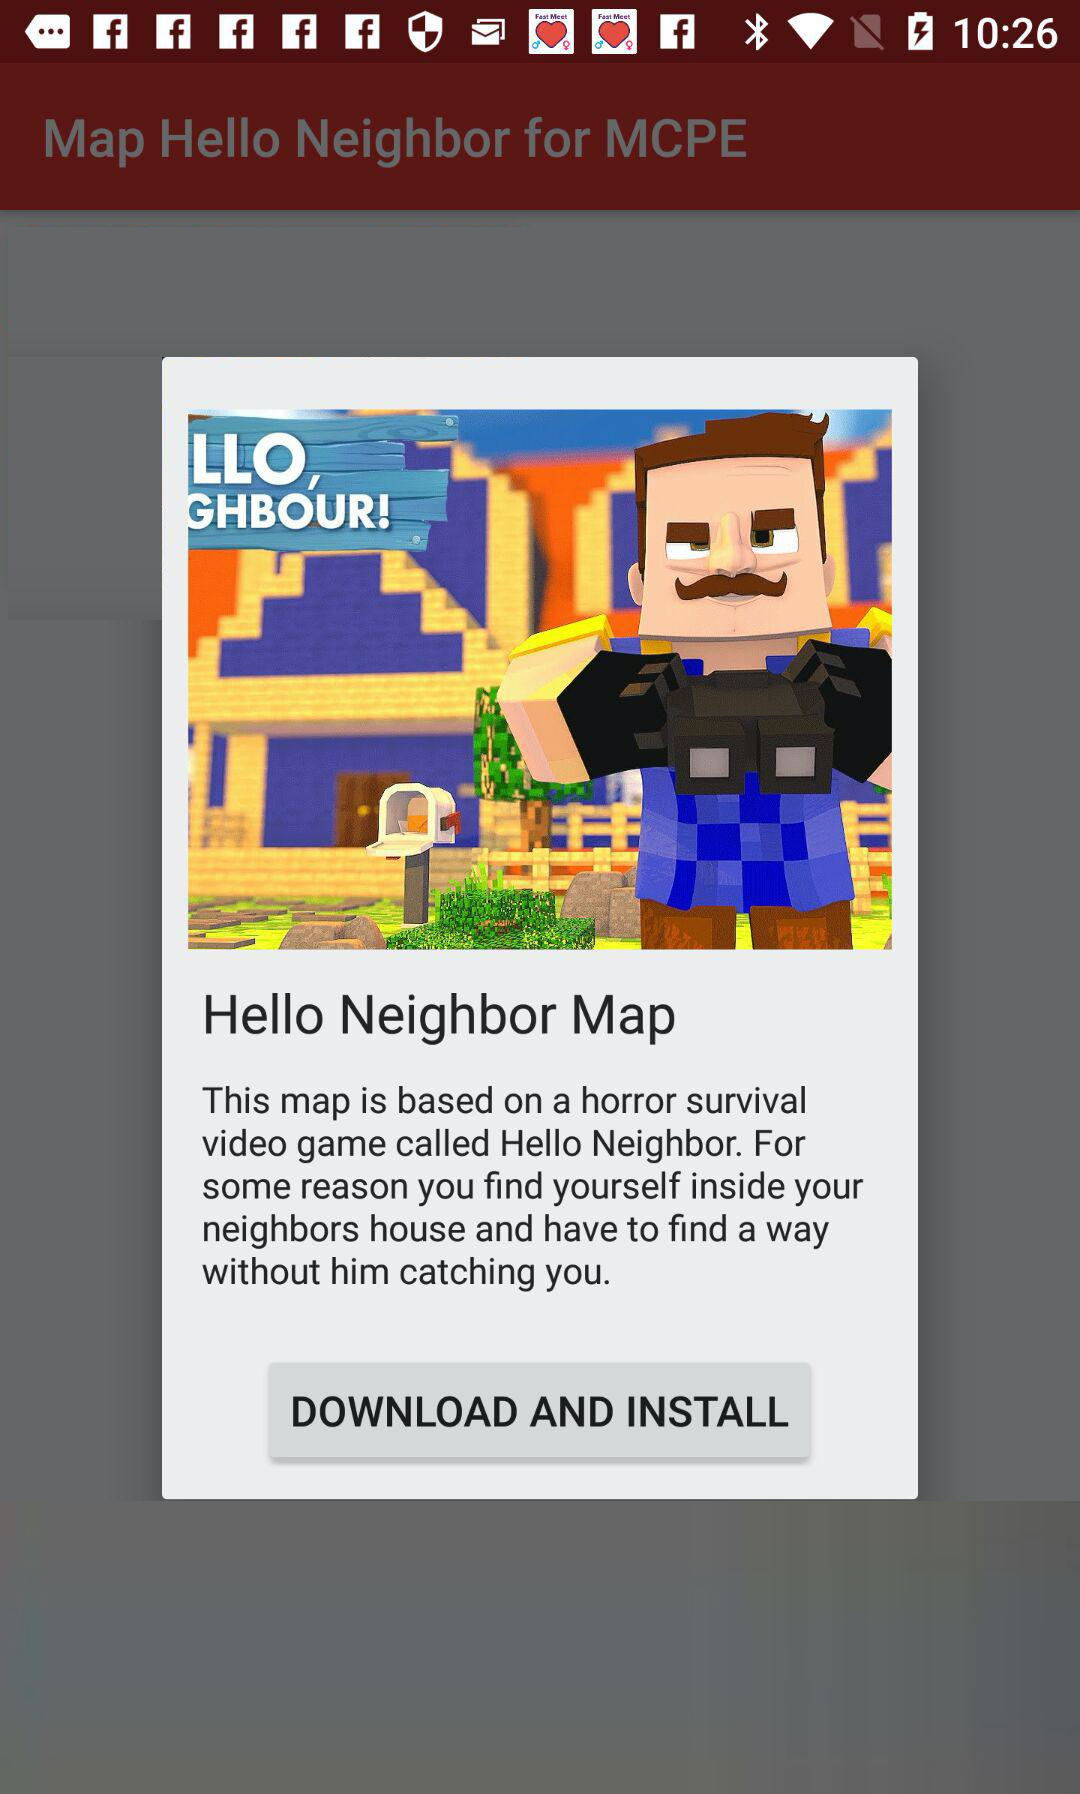Image: (188, 409, 893, 951)
Modal: (161, 358, 919, 1501)
Text: (202, 1085, 865, 1293), (46, 117, 748, 170), (206, 992, 676, 1047)
TextButton: (268, 1362, 814, 1465)
UpperTaskBar: (1, 1, 1080, 64)
